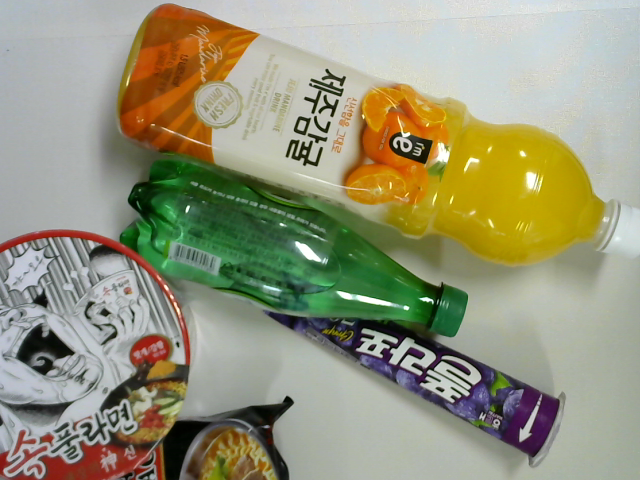Hejangpul: (1, 219, 202, 475)
Jeju_Tangerine_1.5L: (105, 1, 634, 274)
Polapo_Grape: (230, 270, 573, 471)
Sinramen_Black: (61, 389, 300, 480)
Treviraim_500ml: (114, 149, 473, 345)
